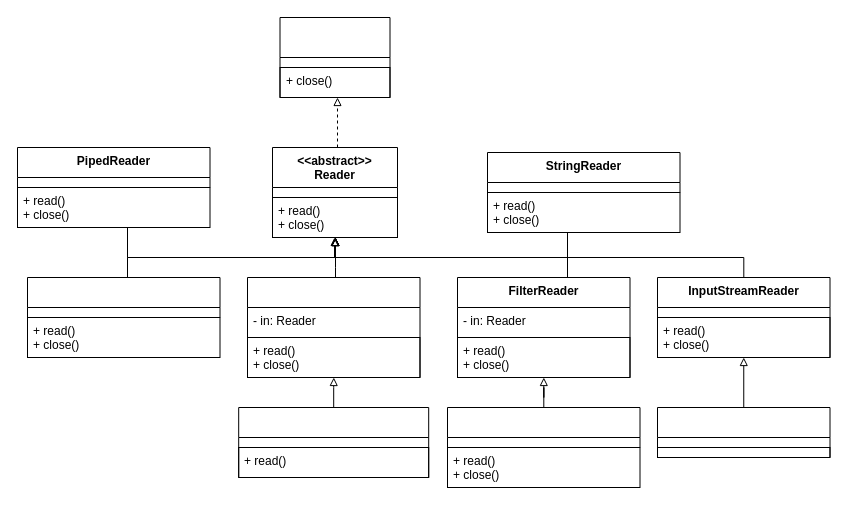
Some shapes in this 848 by 508 pixel diagram are drawn without their labels. Each missing label, with the box of its shape:
<<interface>> Closable: (279, 16, 390, 98)
BufferedReader: (246, 276, 420, 378)
CharArrayReader: (26, 276, 220, 318)
FileReader: (656, 406, 830, 458)
LineNumberReader: (238, 406, 429, 478)
PushbackReader: (446, 406, 640, 448)
